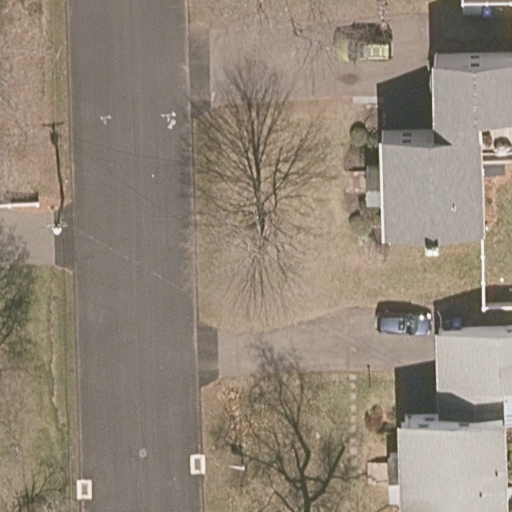DT: (50, 197, 69, 237)
